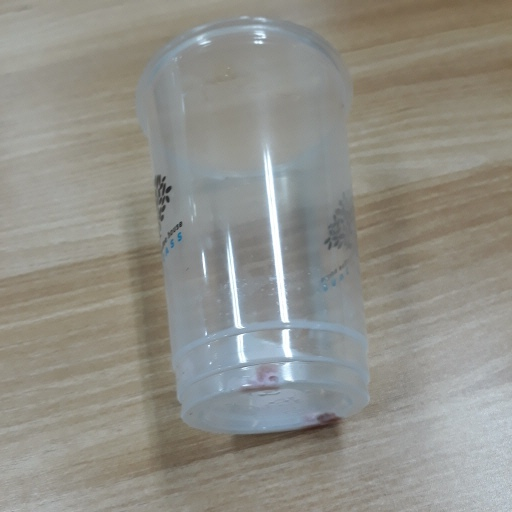Plastic_2: (129, 15, 382, 440)
